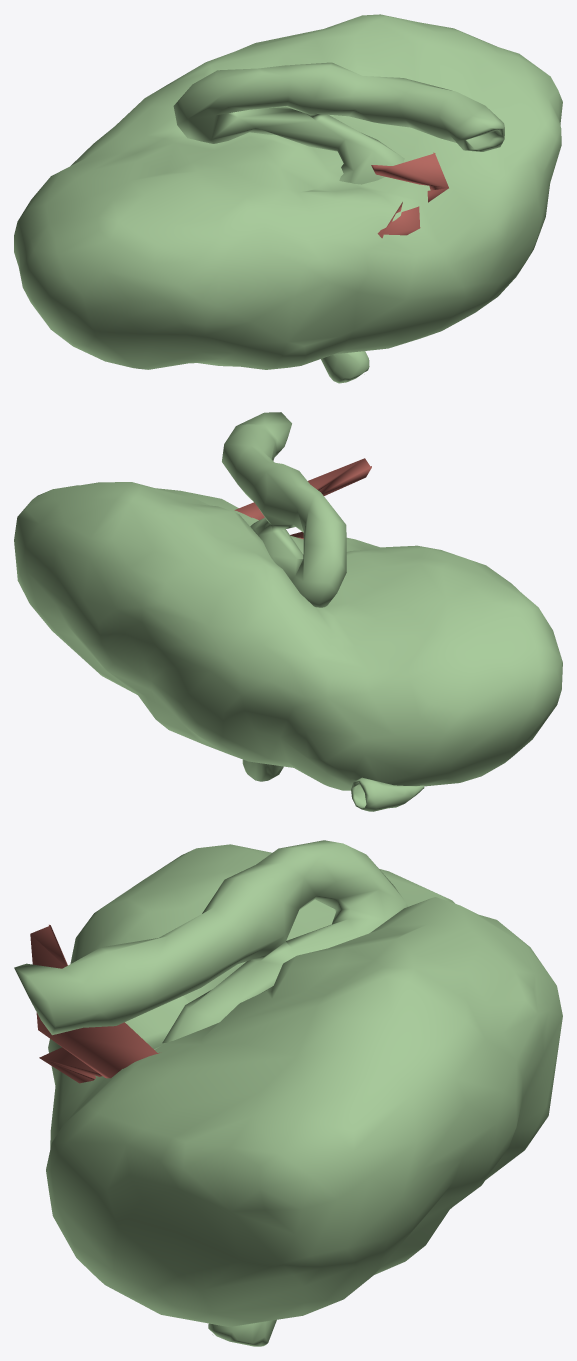
File: module_tissue_lymph_node.lymphatic.LOD2.glb
3 views of the same model, one above another, from view 1: azimuth 30°, elevation 25°; view 2: azimuth 150°, elevation 25°; view 3: azimuth 270°, elevation 25° (orthographic). The views are drawn at different scales.
Parts seen in each view (by area): view 1: MODULE.TISSUE.LYMPH_NODE.CAPSULE_OF_LYMPH_NODE, MODULE.TISSUE.LYMPH_NODE.EFFERENT_LYMPH_NODE, MODULE.TISSUE.LYMPH_NODE.BLOOD_VASCULATURE, MODULE.TISSUE.LYMPH_NODE.AFFERENT_LYMPHATIC_VESSEL; view 2: MODULE.TISSUE.LYMPH_NODE.CAPSULE_OF_LYMPH_NODE, MODULE.TISSUE.LYMPH_NODE.EFFERENT_LYMPH_NODE, MODULE.TISSUE.LYMPH_NODE.AFFERENT_LYMPHATIC_VESSEL, MODULE.TISSUE.LYMPH_NODE.BLOOD_VASCULATURE; view 3: MODULE.TISSUE.LYMPH_NODE.CAPSULE_OF_LYMPH_NODE, MODULE.TISSUE.LYMPH_NODE.EFFERENT_LYMPH_NODE, MODULE.TISSUE.LYMPH_NODE.BLOOD_VASCULATURE, MODULE.TISSUE.LYMPH_NODE.AFFERENT_LYMPHATIC_VESSEL.
Boxes of the visible parts, <box> form: MODULE.TISSUE.LYMPH_NODE.CAPSULE_OF_LYMPH_NODE: <box>14,14,562,369</box>; MODULE.TISSUE.LYMPH_NODE.EFFERENT_LYMPH_NODE: <box>173,62,504,184</box>; MODULE.TISSUE.LYMPH_NODE.BLOOD_VASCULATURE: <box>371,152,448,238</box>; MODULE.TISSUE.LYMPH_NODE.AFFERENT_LYMPHATIC_VESSEL: <box>321,351,369,383</box>; MODULE.TISSUE.LYMPH_NODE.CAPSULE_OF_LYMPH_NODE: <box>14,482,562,790</box>; MODULE.TISSUE.LYMPH_NODE.EFFERENT_LYMPH_NODE: <box>222,412,346,607</box>; MODULE.TISSUE.LYMPH_NODE.AFFERENT_LYMPHATIC_VESSEL: <box>242,759,424,811</box>; MODULE.TISSUE.LYMPH_NODE.BLOOD_VASCULATURE: <box>234,458,371,539</box>; MODULE.TISSUE.LYMPH_NODE.CAPSULE_OF_LYMPH_NODE: <box>46,844,562,1326</box>; MODULE.TISSUE.LYMPH_NODE.EFFERENT_LYMPH_NODE: <box>14,840,407,1043</box>; MODULE.TISSUE.LYMPH_NODE.BLOOD_VASCULATURE: <box>30,924,159,1083</box>; MODULE.TISSUE.LYMPH_NODE.AFFERENT_LYMPHATIC_VESSEL: <box>208,1320,276,1346</box>.
Size of the model in its own units: 0.0197 by 0.0114 by 0.0124.
